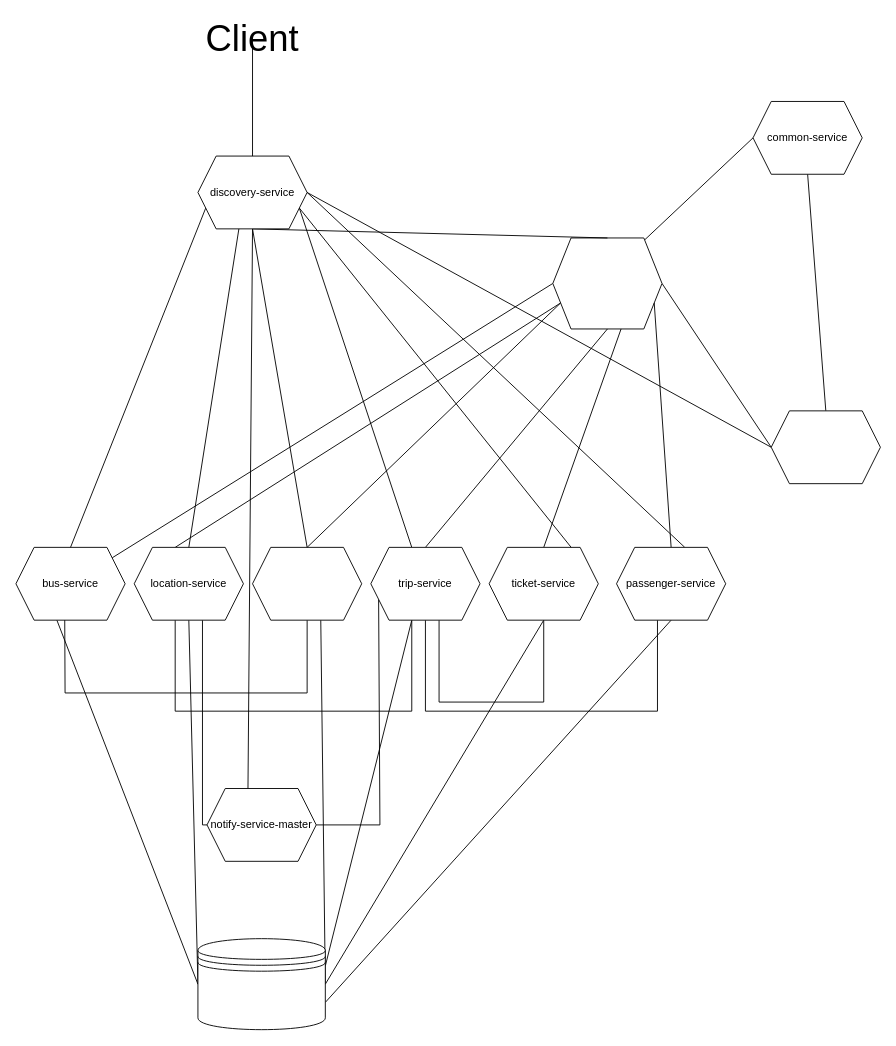
This 896x1046 diagram has some shape labels left out. Here are the shapes that lost their labels. From the top down, the centre of each, then its label:
At point (607, 283): "zuul-server-application".
At point (825, 447): "auth-service".
At point (307, 583): "driver-service".
At point (261, 984): "busService".
